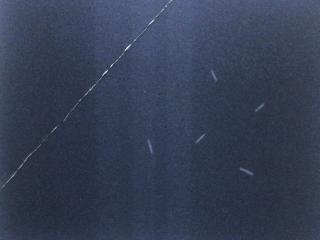crack: (0, 0, 171, 191)
scratch: (234, 162, 260, 180), (141, 135, 160, 159), (249, 98, 270, 116), (191, 128, 209, 149), (208, 66, 222, 86)
